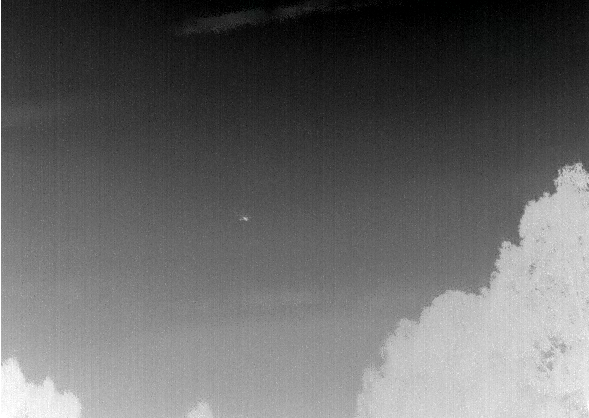dim target: (238, 214, 251, 223)
